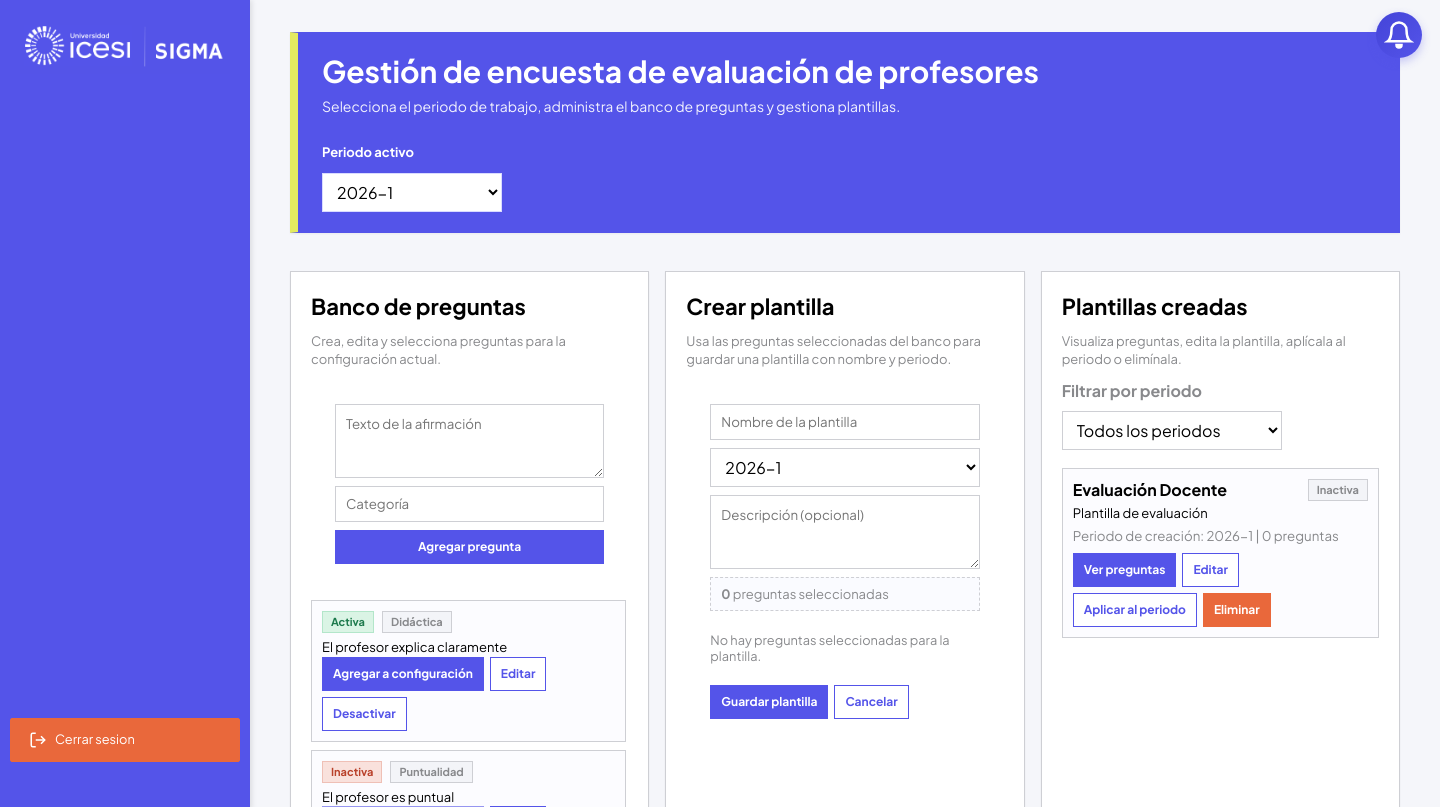
Test case: GestionEncuestaProfesoresHU027 › permite agregar pregunta a la configuracion
Check: the text "El profesor explica claramente" is shown, box [322,639,507,655]
Click the button "Agregar a configuración" below "El profesor explica claramente" at (403, 674), box [322,656,484,690]
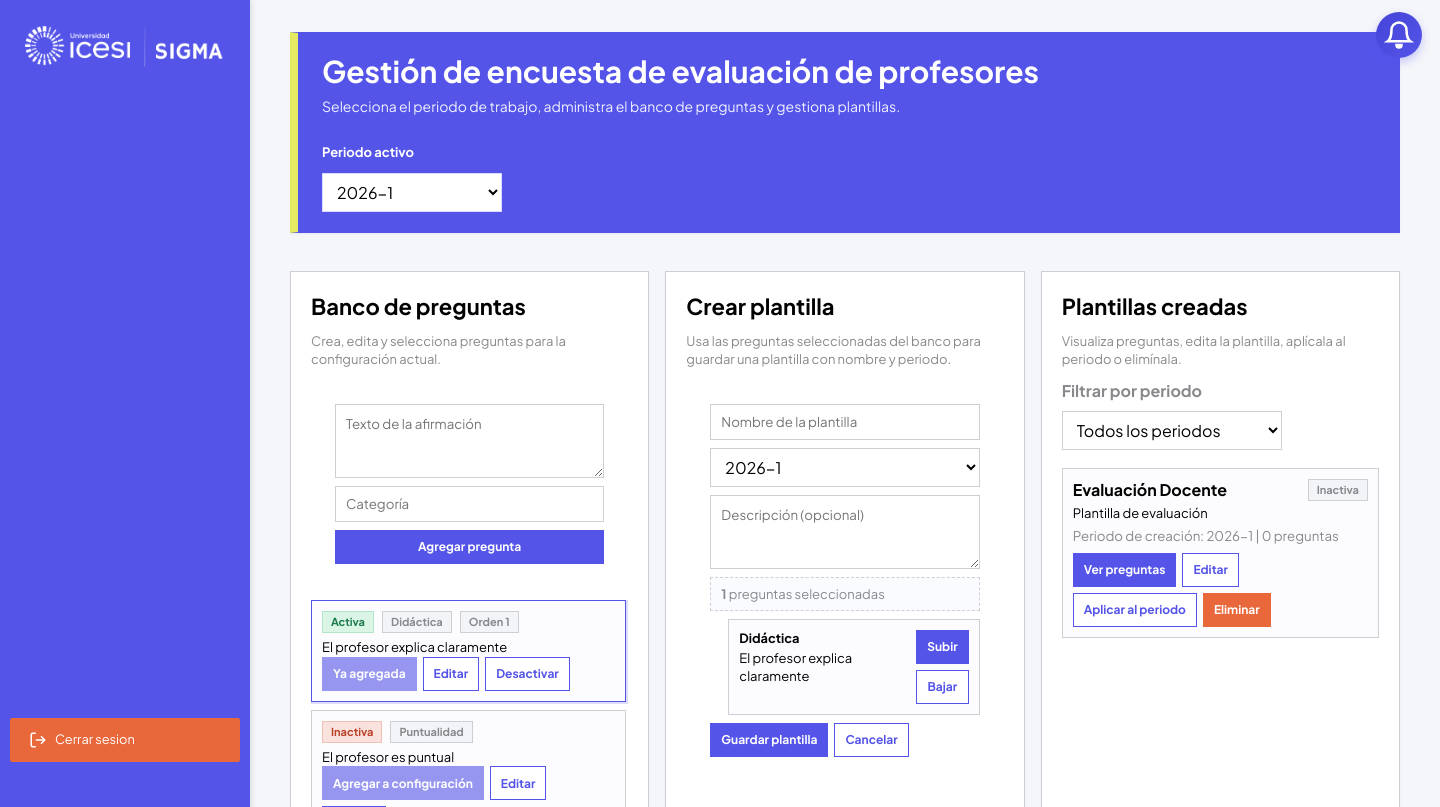
Check: the button "Ya agregada" is shown, box [322,656,417,690]
Check: the element with class "hu027-selected-summary" reads "1 preguntas seleccionadas", box [710,577,980,611]
